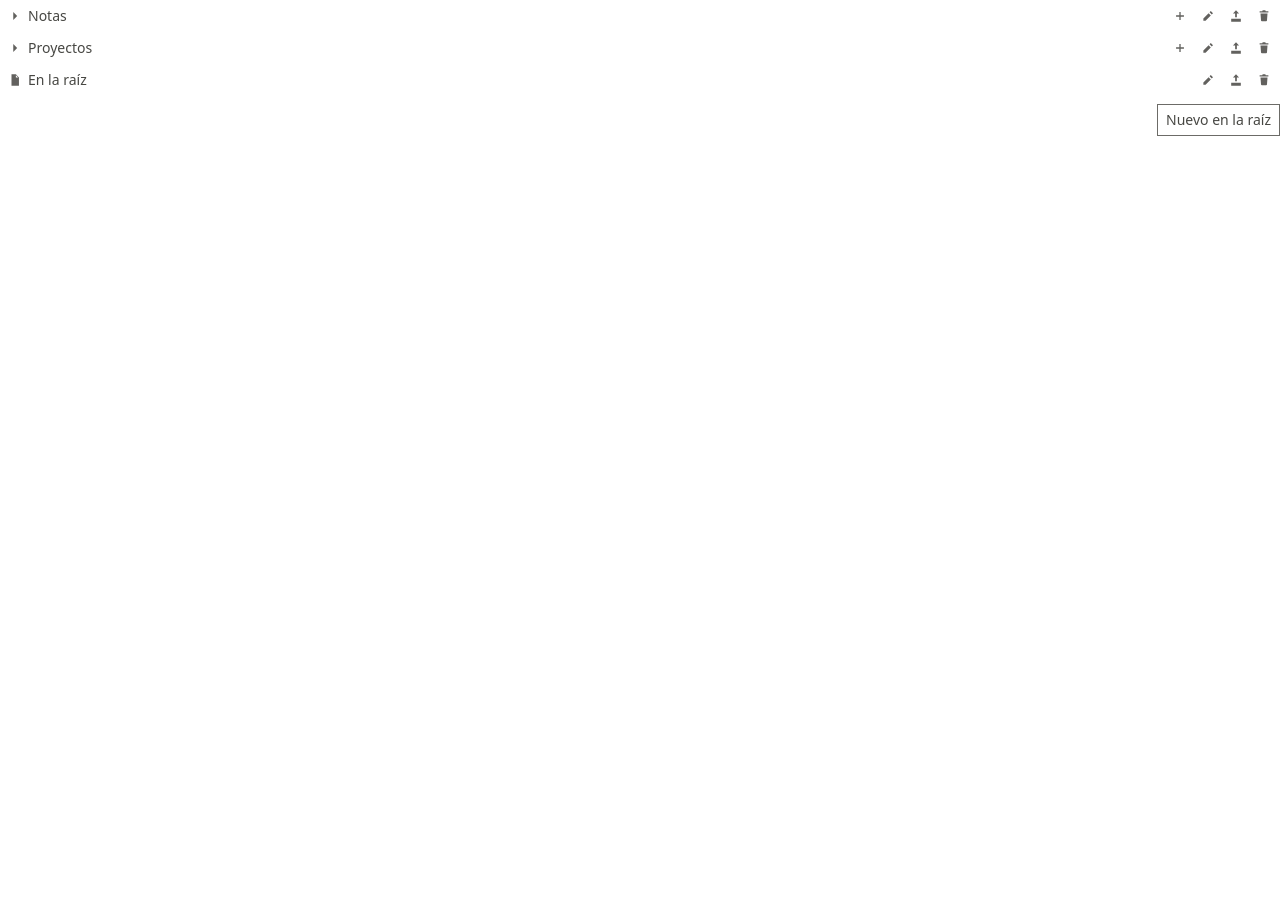
Scenario: WorkspaceTreeView — crear (AC-29) › crea un directorio dentro del padre elegido y lo despliega para que se vea
Click the button named "Nuevo en «Notas»": point(1180, 16) [1168,4,1192,28]
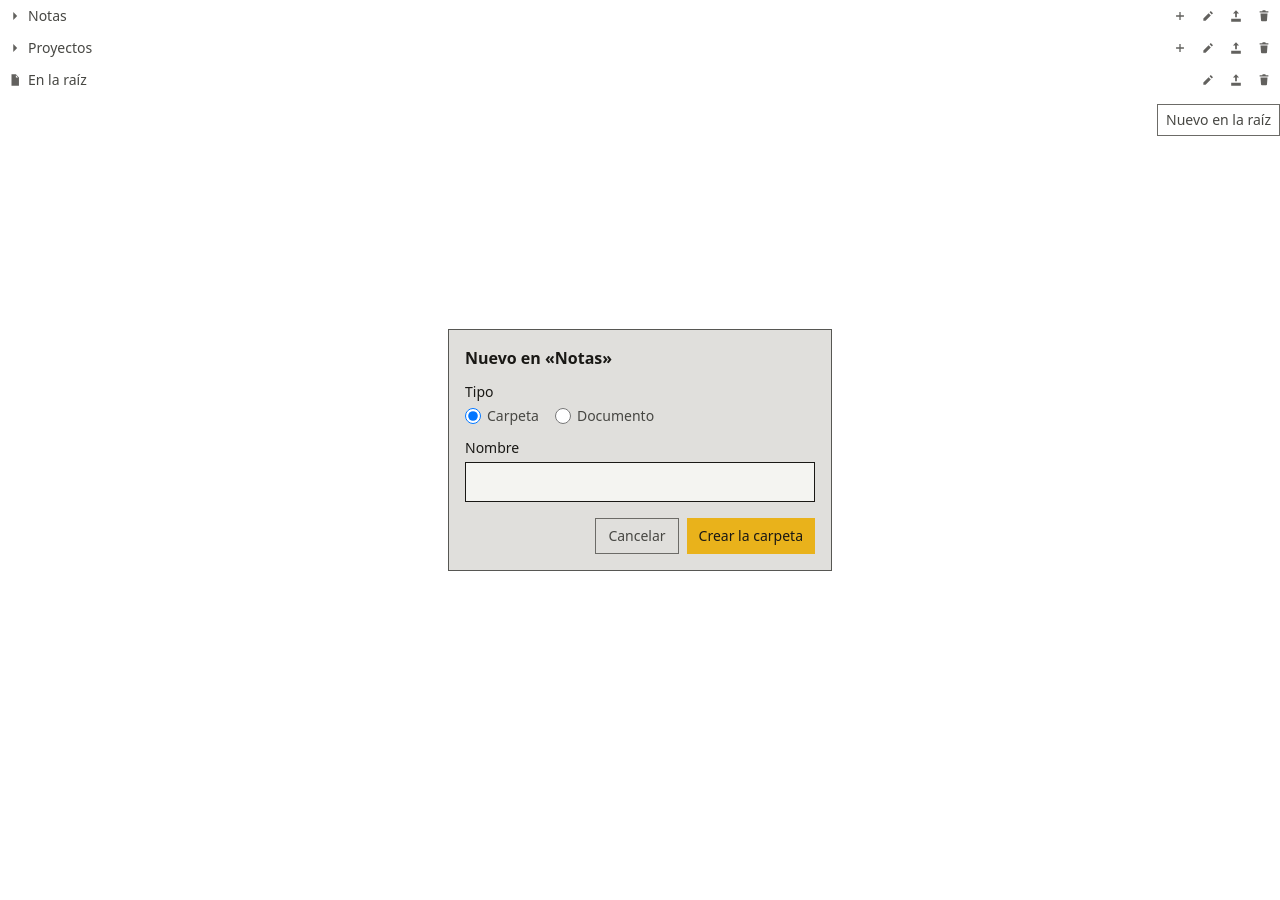
In the field labelled "Nombre": point(640, 482) [465,462,815,502], type "Cocina"
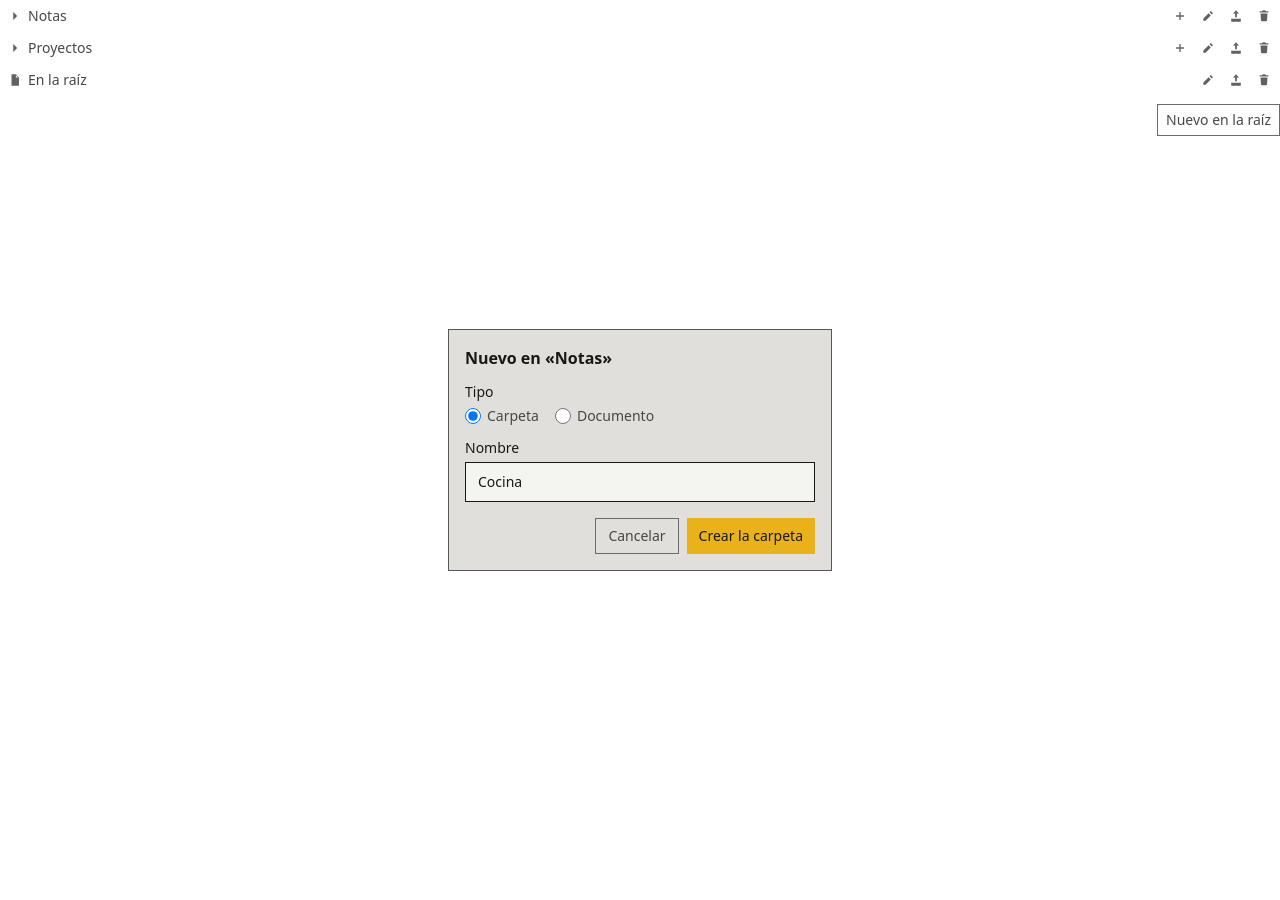
Click the button "Crear la carpeta": point(751, 536) [687,518,815,554]
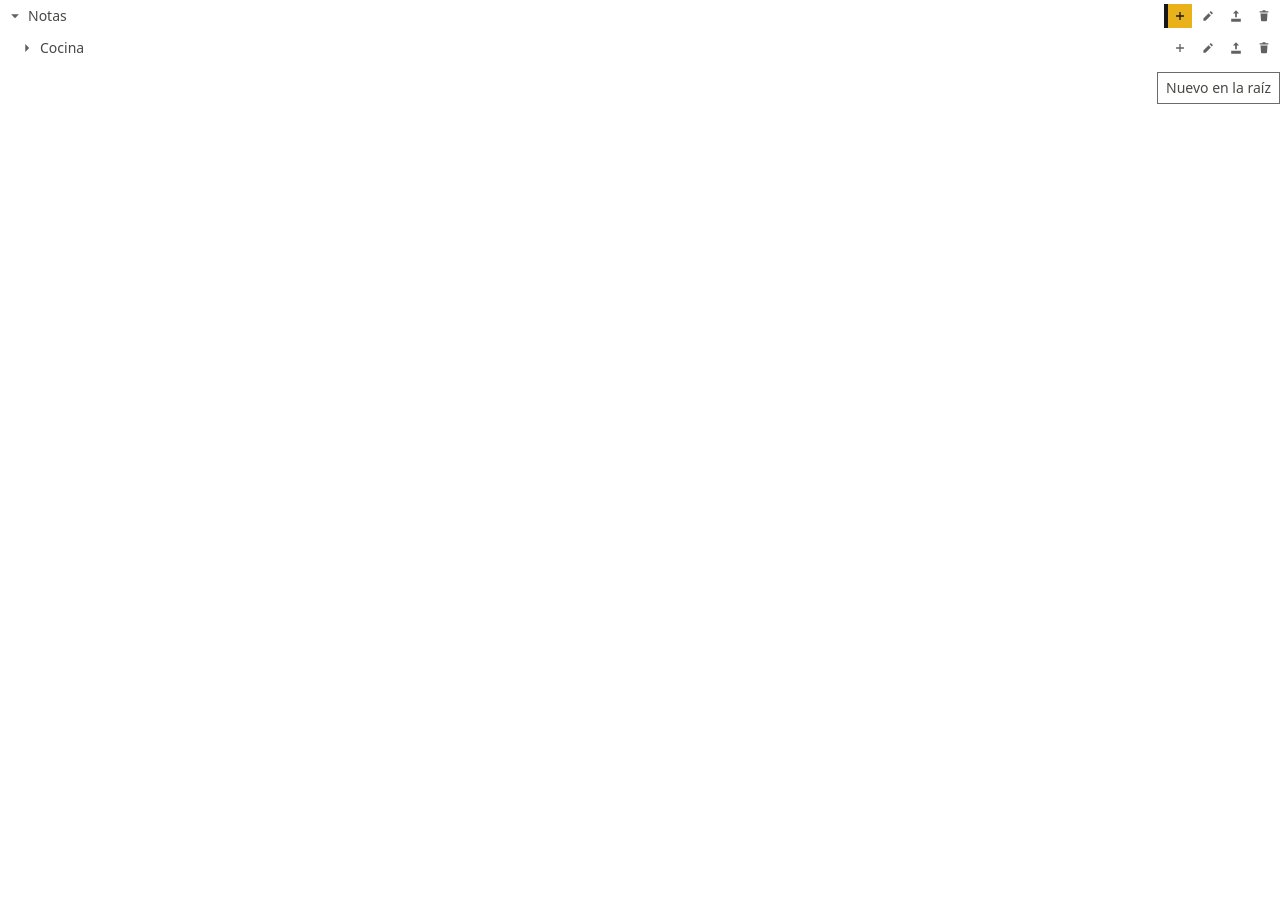
Now the list item "Cocina" is shown, box [0,32,1279,64]
